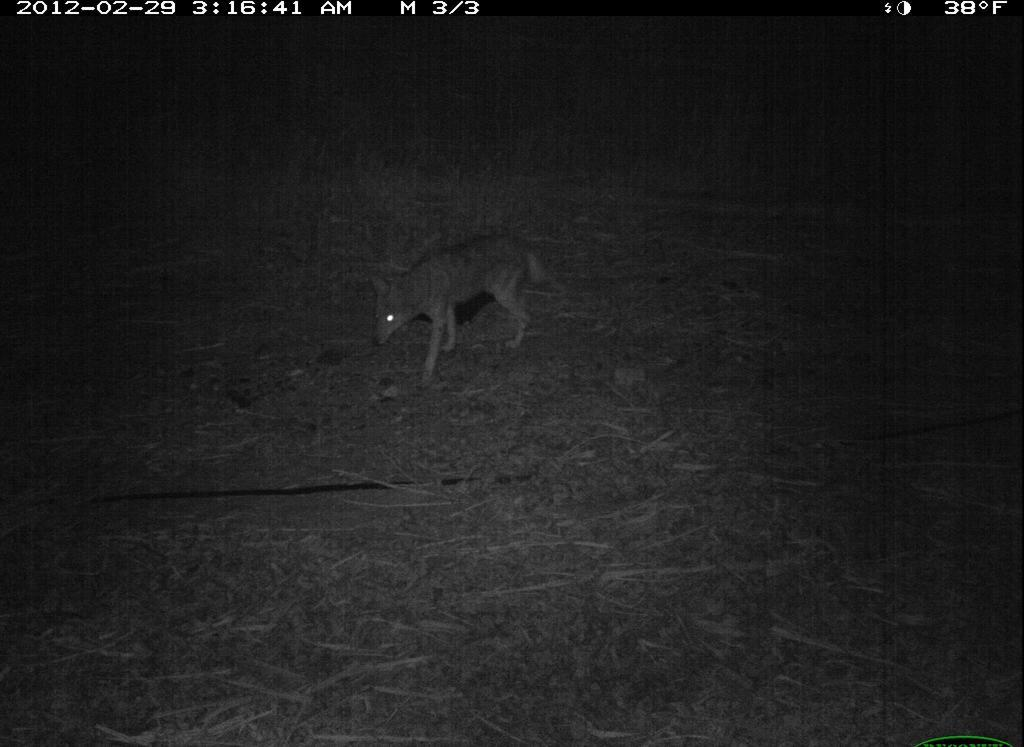coyote: (340, 223, 567, 386)
